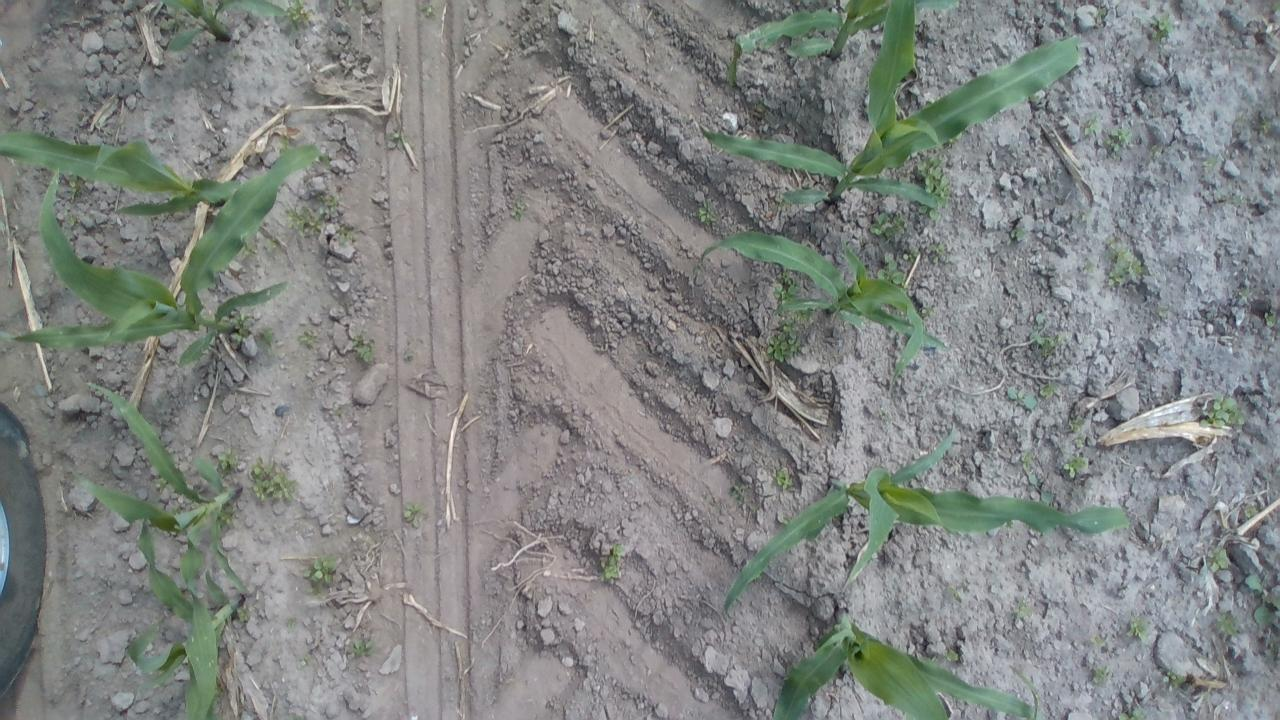Maize: (701, 1, 1088, 214), (713, 424, 1137, 614), (0, 144, 332, 361), (77, 374, 250, 714), (698, 238, 951, 395), (767, 613, 1055, 720), (0, 128, 272, 225), (126, 520, 247, 720), (726, 1, 959, 89), (156, 0, 284, 54)
Weeds: (250, 458, 302, 511), (1106, 238, 1152, 288), (760, 318, 810, 364), (1024, 310, 1070, 358), (918, 157, 948, 225), (1198, 391, 1248, 431), (1245, 574, 1280, 630), (285, 202, 329, 240), (596, 542, 628, 584), (302, 555, 340, 589), (349, 324, 378, 366), (282, 1, 320, 32), (1025, 468, 1056, 503), (871, 210, 906, 240), (1104, 122, 1132, 156), (1152, 10, 1178, 46), (770, 272, 805, 298), (1200, 542, 1230, 572), (1124, 612, 1152, 644), (1212, 610, 1238, 644), (1006, 386, 1040, 411), (1061, 455, 1093, 481), (231, 314, 257, 346), (383, 127, 412, 154), (1158, 665, 1184, 695), (1254, 107, 1276, 141), (772, 460, 794, 494), (402, 502, 426, 530), (317, 190, 345, 214), (728, 476, 746, 513), (1077, 111, 1099, 141), (698, 196, 720, 226), (352, 634, 378, 659), (944, 581, 968, 608), (215, 448, 242, 471), (1012, 595, 1032, 625), (1112, 706, 1152, 720), (1088, 664, 1113, 686), (1238, 499, 1260, 522), (334, 224, 356, 246), (260, 235, 282, 257), (298, 330, 322, 350), (512, 199, 530, 225), (1230, 107, 1252, 128), (1019, 444, 1036, 471), (706, 492, 725, 516), (284, 612, 300, 639), (1006, 224, 1028, 243), (296, 652, 314, 675), (940, 640, 957, 664), (916, 296, 934, 318), (1037, 382, 1063, 397), (411, 2, 437, 17), (340, 0, 366, 15), (237, 604, 253, 628), (1153, 300, 1170, 322), (904, 245, 920, 268), (1068, 415, 1088, 433), (401, 346, 420, 364), (260, 328, 277, 347), (1229, 190, 1247, 206), (1204, 152, 1220, 170), (898, 590, 916, 606), (931, 244, 949, 260), (1072, 435, 1090, 450), (1264, 311, 1278, 329), (1093, 8, 1110, 22), (1088, 632, 1106, 644), (1084, 259, 1098, 274), (288, 709, 306, 720)
